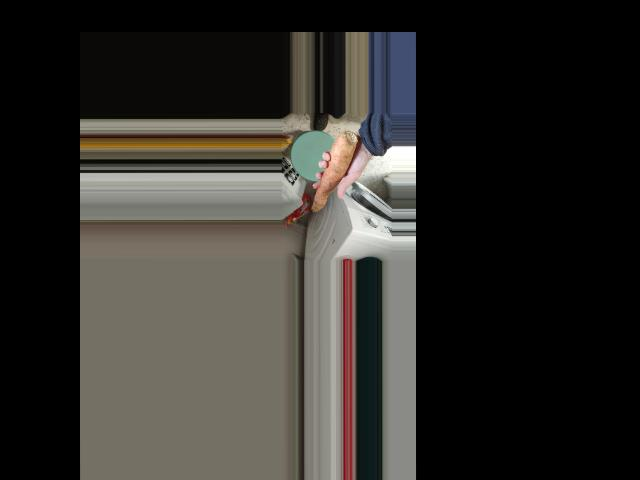sweet_potato: (307, 129, 360, 218)
